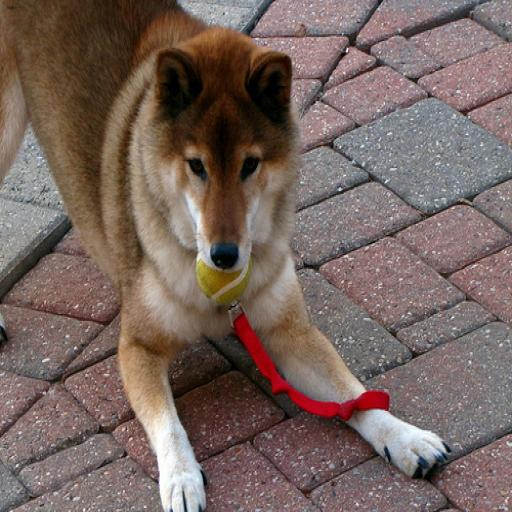dog_face: (156, 44, 300, 275)
